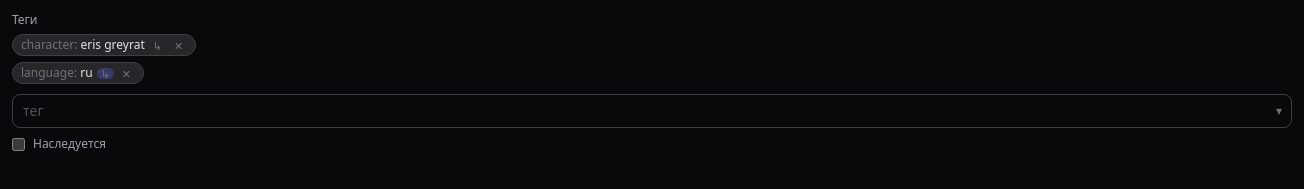
it: TagsSection: снять тег и наследование › отказ сервера при снятии - под секцией
This screenshot has width=1304, height=189.
What coordinates should you click on to do the following:
click the button named "Снять тег «language: ru»"
I would click on:
 (126, 73)
Its box is [118,68,135,78].
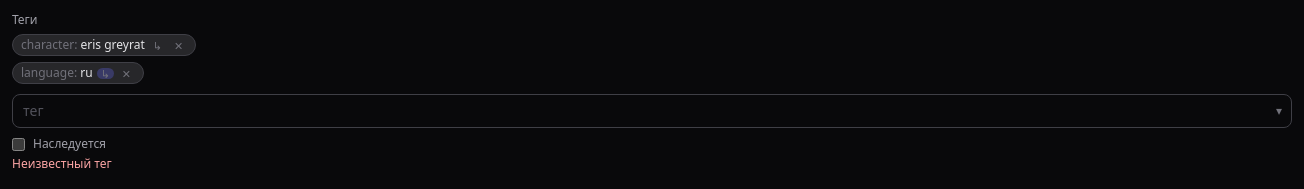
Expected: the message reads "Неизвестный тег", [12,155,112,172]
